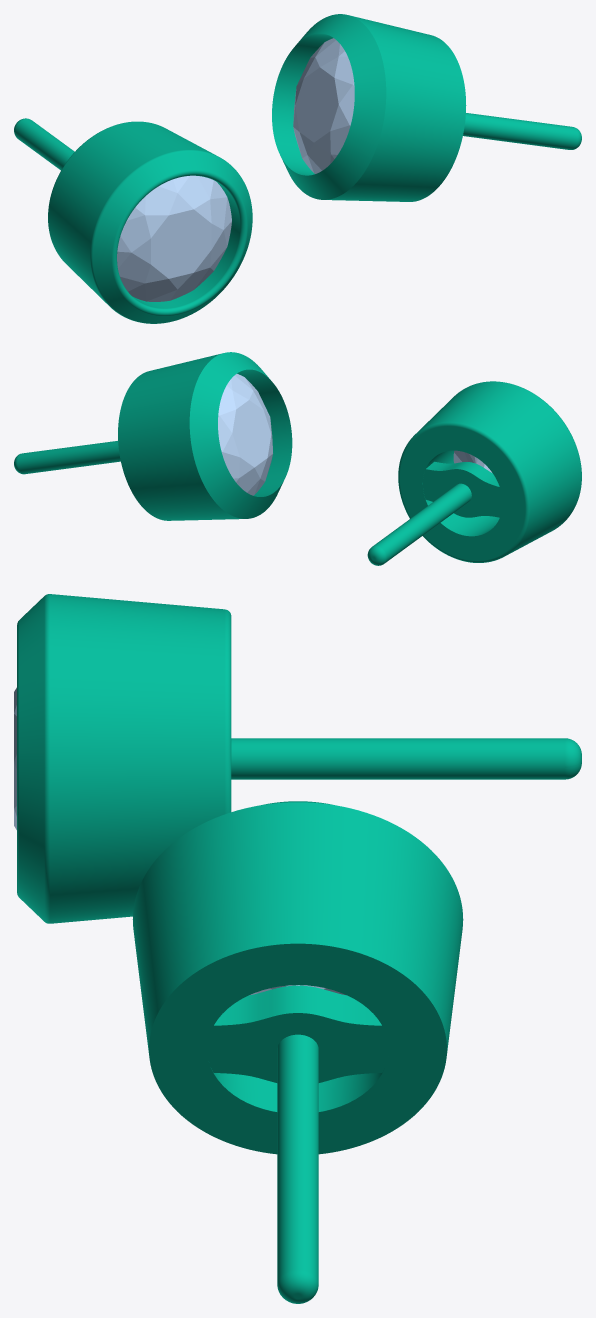
The picture shows the model from 3 angles, top to bottom: view 1: azimuth 30°, elevation 25°; view 2: azimuth 150°, elevation 25°; view 3: azimuth 270°, elevation 25°; orthographic projection. The views are drawn at different scales.
Visible parts, largest first — view 1: Bezel (×2), Diamond_Round (×2), VEAR716.3dm; view 2: Bezel (×2), VEAR716.3dm, Diamond_Round (×2); view 3: Bezel (×2), VEAR716.3dm.
Boxes of the visible parts, x1=… form: Bezel (×2): x1=48, y1=14, x2=466, y2=323; Diamond_Round (×2): x1=117, y1=38, x2=354, y2=301; VEAR716.3dm: x1=14, y1=113, x2=581, y2=170; Bezel (×2): x1=118, y1=352, x2=581, y2=562; VEAR716.3dm: x1=14, y1=441, x2=502, y2=565; Diamond_Round (×2): x1=218, y1=374, x2=491, y2=495; Bezel (×2): x1=17, y1=594, x2=463, y2=1154; VEAR716.3dm: x1=207, y1=738, x2=581, y2=1303.
Bounding box in the file's own units: 3.45 × 1.09 × 1.71.
